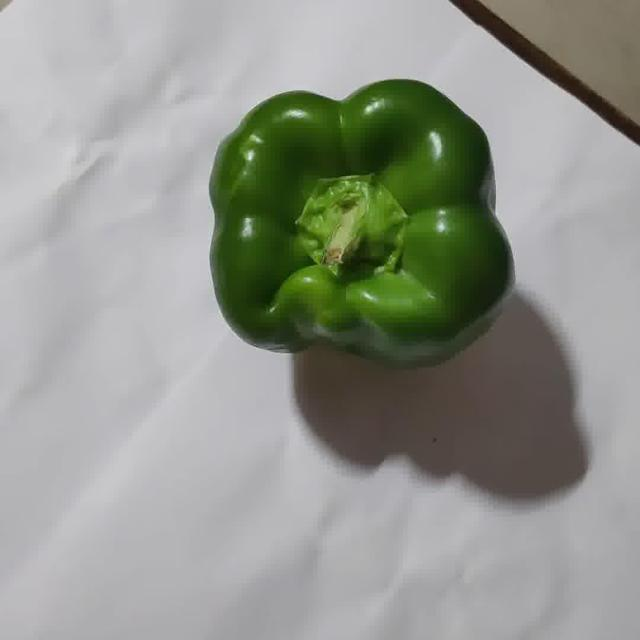Bell Pepper: (210, 79, 511, 364)
